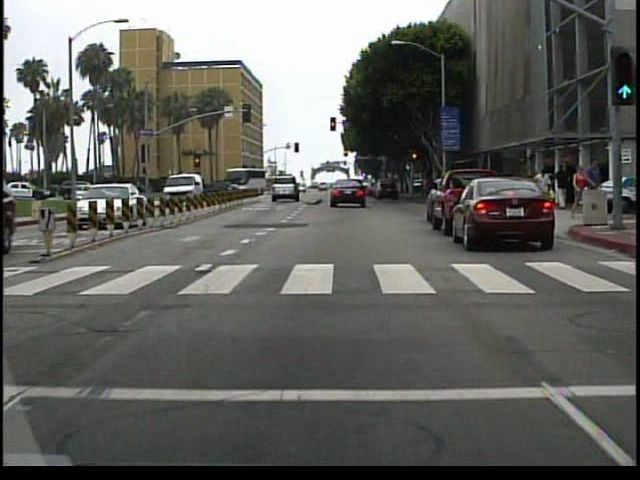person: (581, 159, 604, 222), (568, 163, 588, 223), (531, 167, 552, 214), (551, 165, 568, 212)
